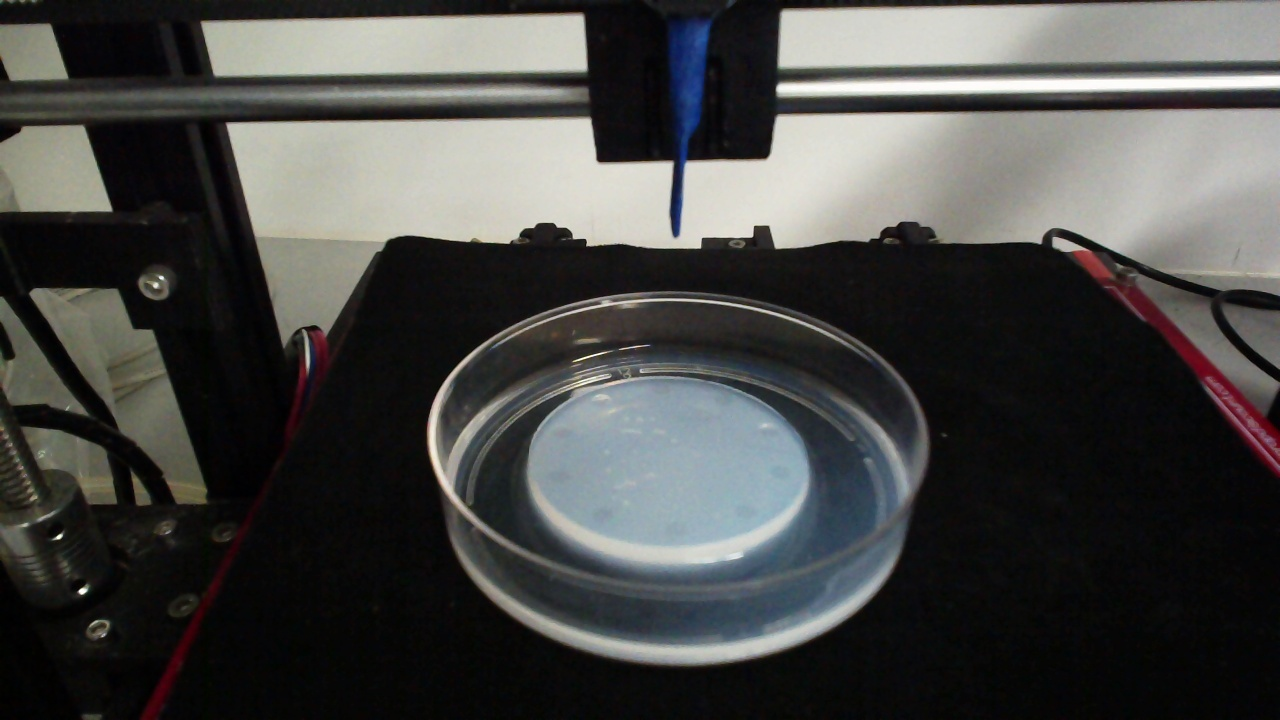groove: (734, 501, 762, 522), (769, 462, 794, 481), (664, 520, 689, 538), (712, 389, 737, 406), (757, 421, 781, 438), (590, 508, 613, 525), (651, 380, 674, 397), (548, 469, 571, 485), (591, 393, 611, 408), (551, 425, 570, 439)
needle: (669, 22, 710, 237)
